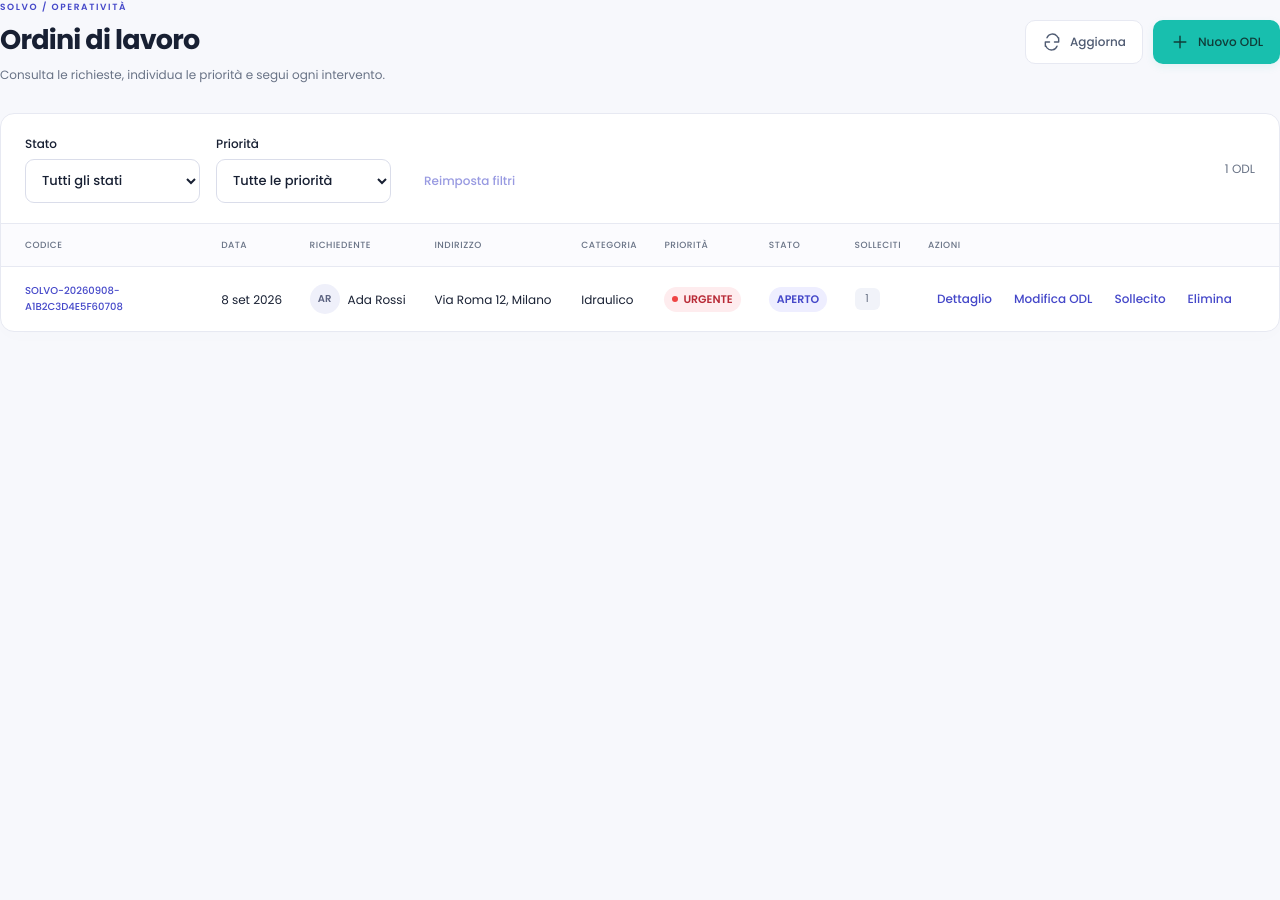
Test: preserves edit form after conflict and shows deletion 404 cleanly
Click the button "Modifica ODL" at [1053, 299], box [1005,277,1101,321]
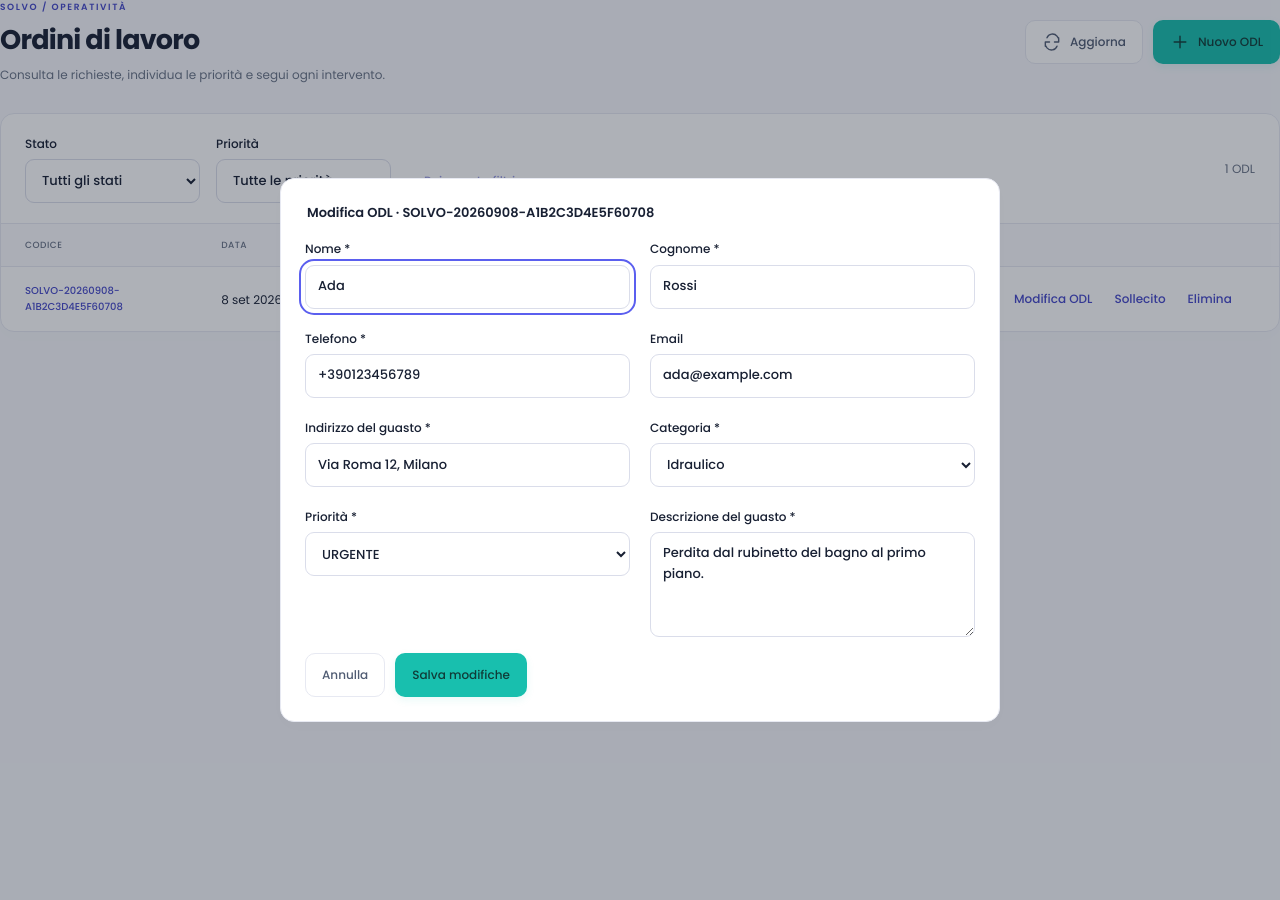
Click the button "Salva modifiche" at [461, 675], box [395,653,527,697]
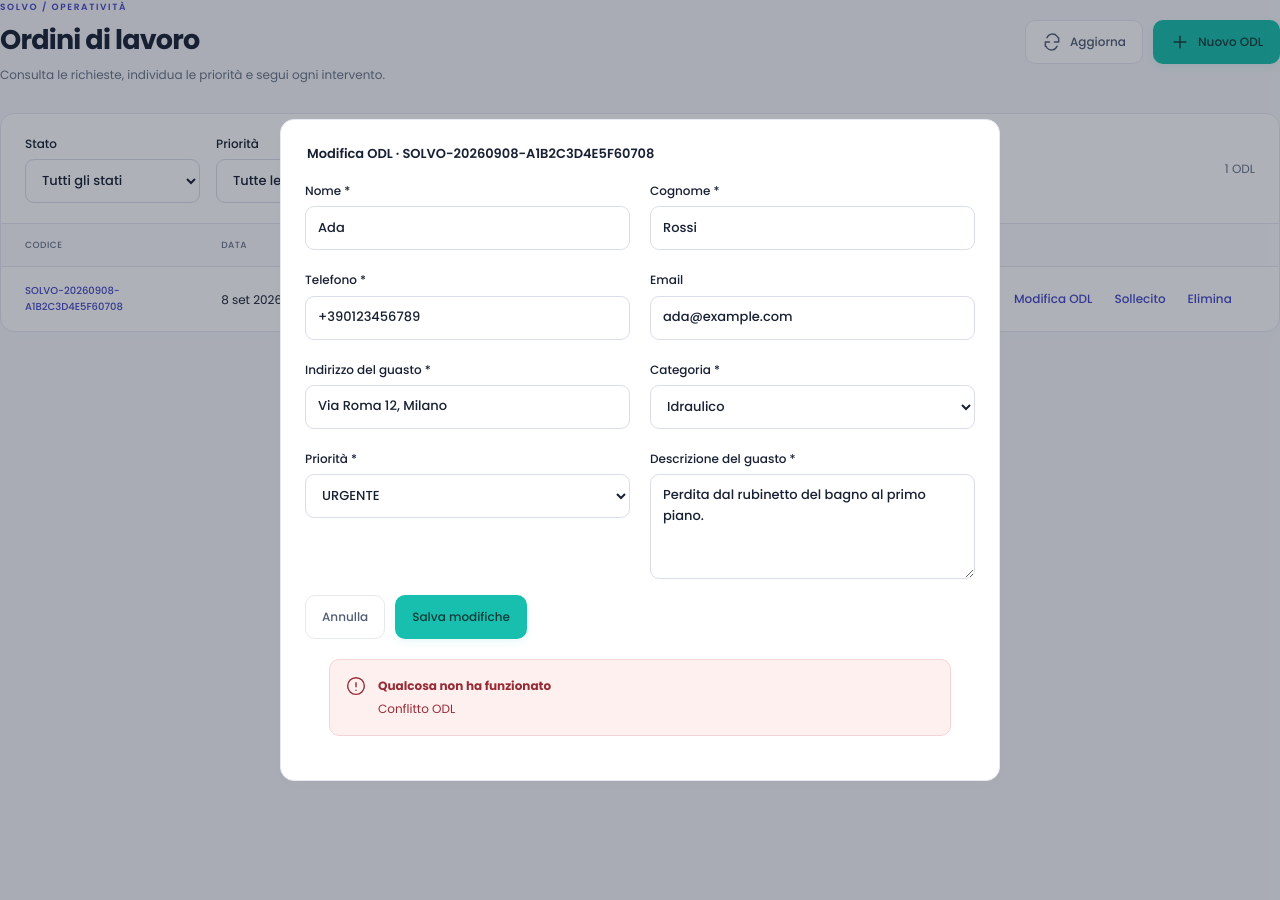
Result: the dialog is shown at [280,119,1000,780]
Result: the text "Conflitto ODL" is shown at [378,700,455,717]
Click the button "Annulla" at [345, 617], box [305,595,385,639]
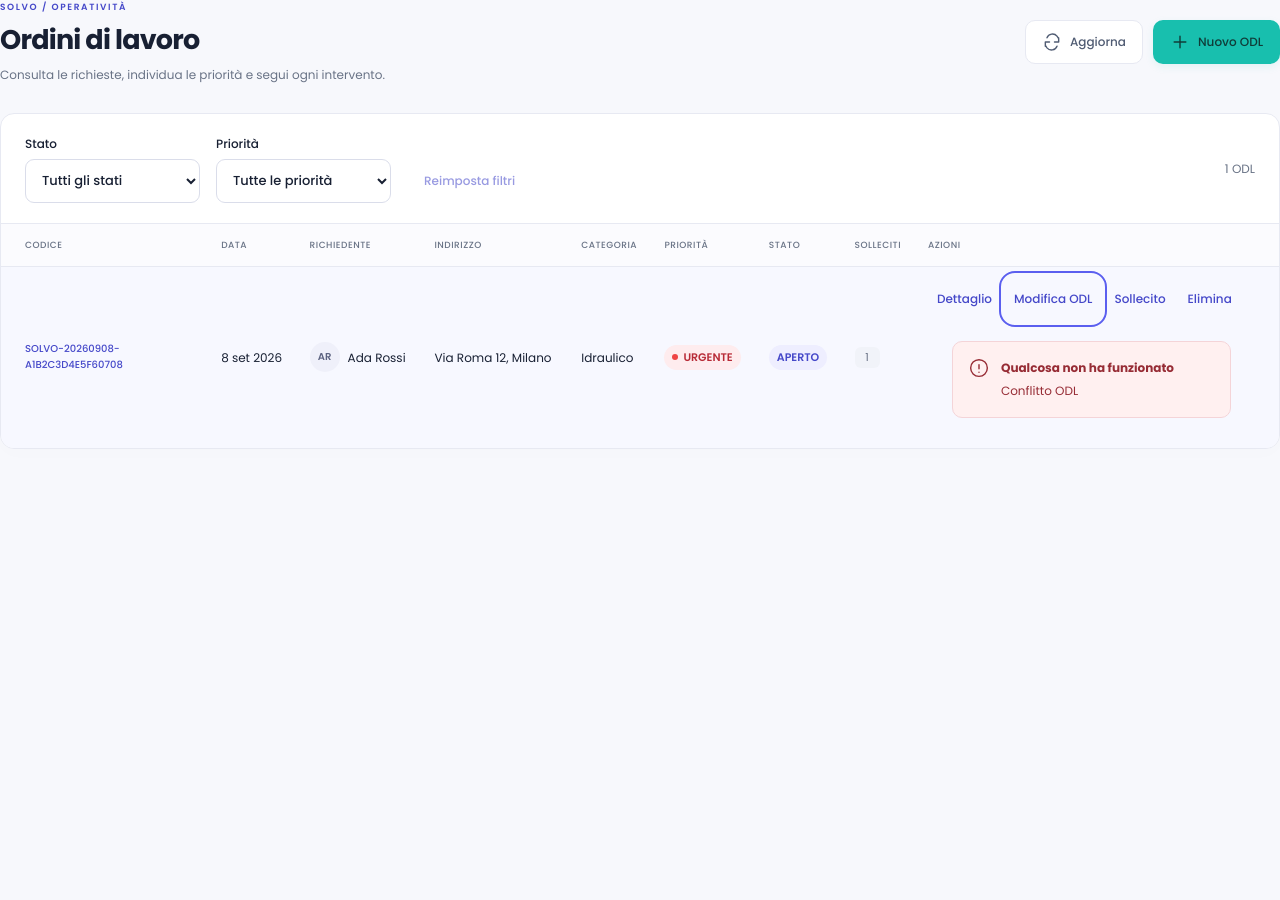
Click the button "Elimina" at [1210, 299], box [1179,277,1241,321]
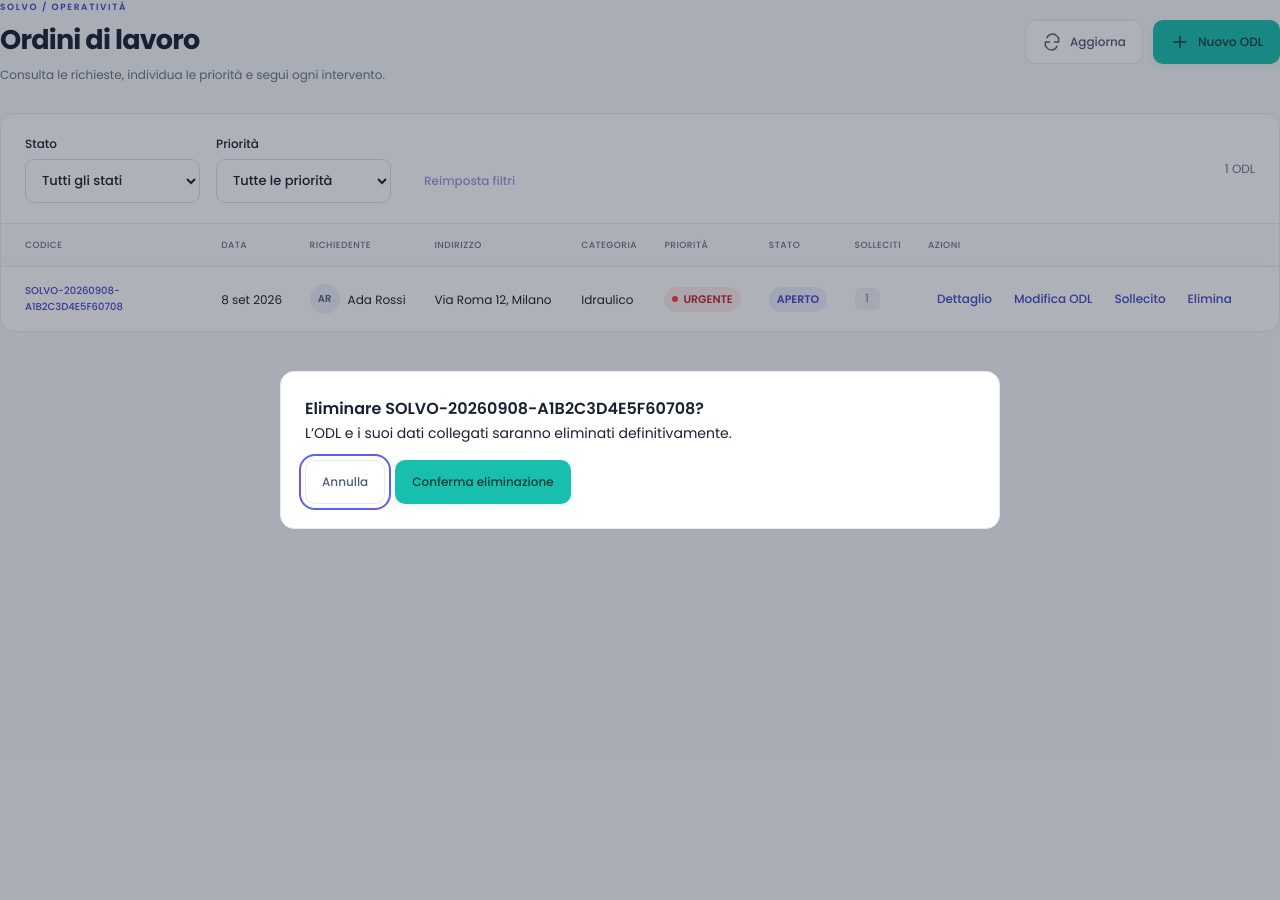
Click the button "Conferma eliminazione" at [483, 482], box [395,460,571,504]
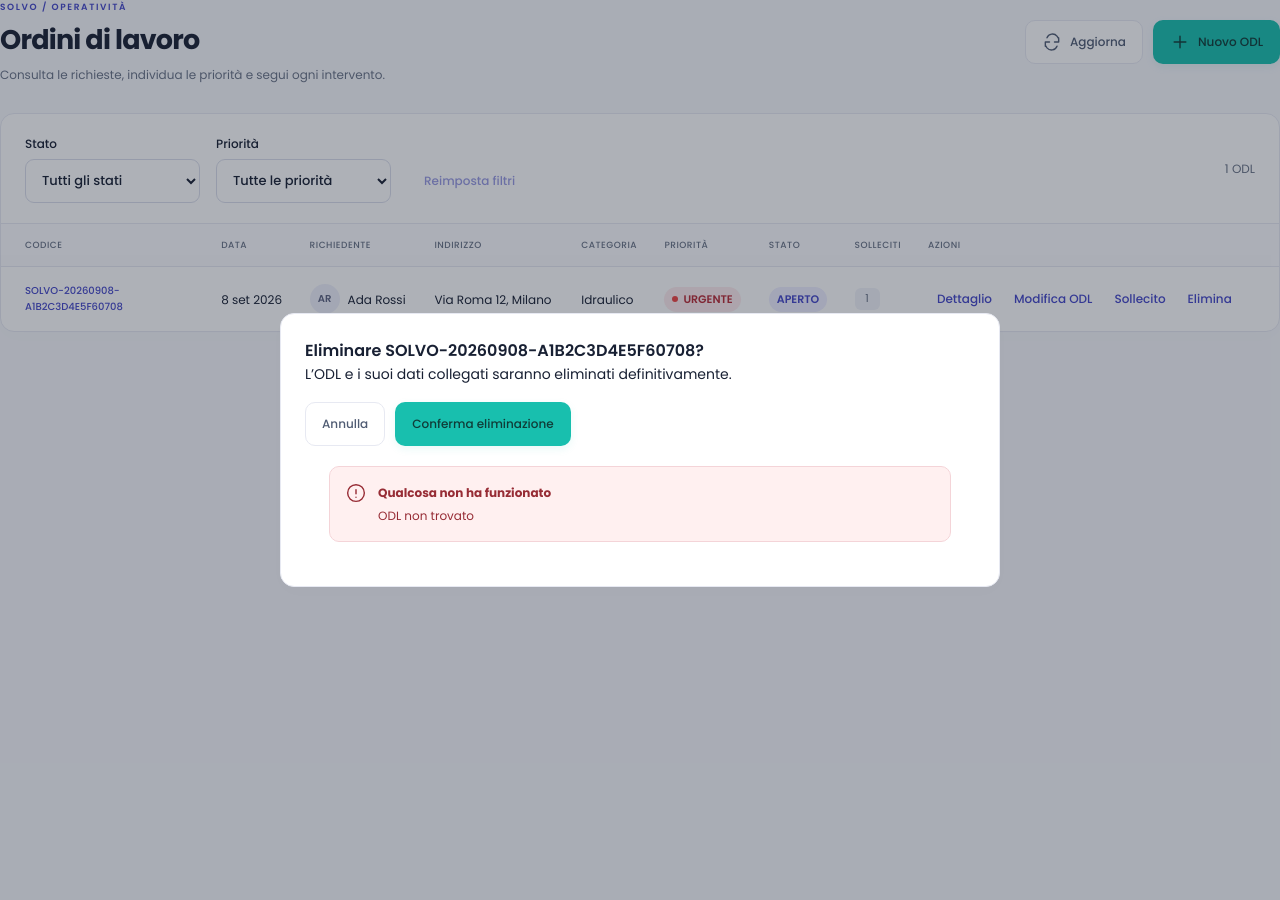
Result: the text "ODL non trovato" is shown at [378,507,474,524]
